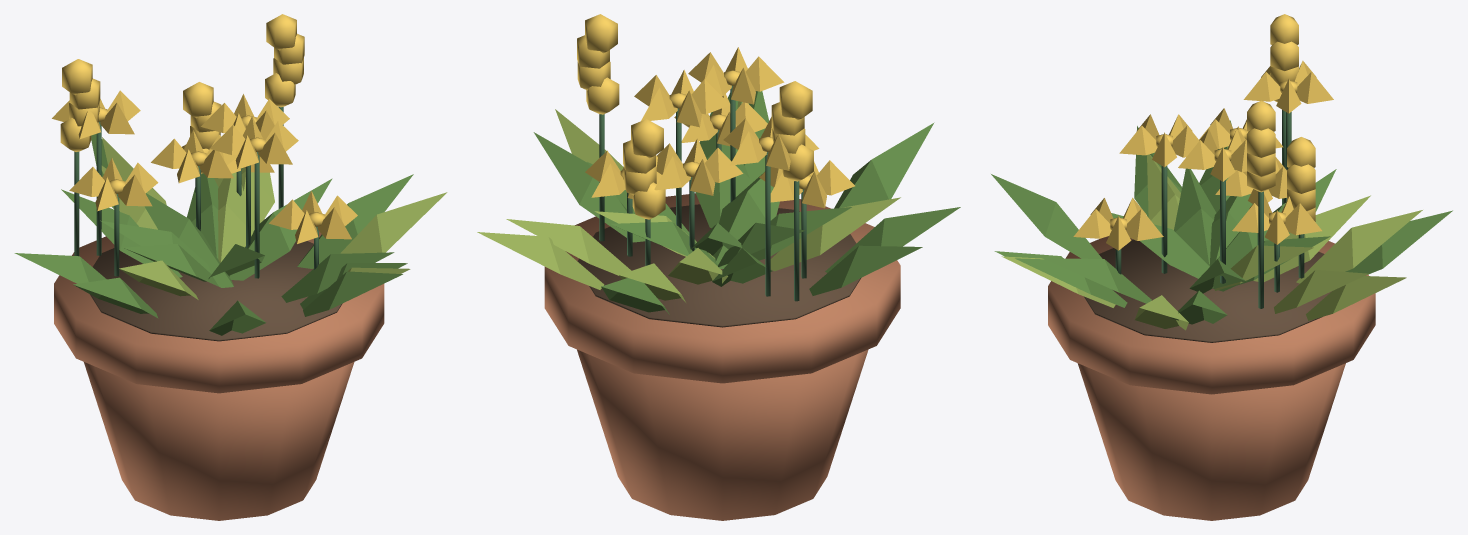
The model's file is flower_pot_1.glb.
The picture shows the model from 3 angles, left to right: view 1: azimuth 30°, elevation 25°; view 2: azimuth 150°, elevation 25°; view 3: azimuth 270°, elevation 25°; orthographic projection. The views are drawn at different scales.
Parts seen in each view (by area): view 1: flower_pot_1; view 2: flower_pot_1; view 3: flower_pot_1.
Part boxes in pixels (x1=…): flower_pot_1: x1=14, y1=14, x2=447, y2=520; flower_pot_1: x1=477, y1=14, x2=960, y2=520; flower_pot_1: x1=991, y1=14, x2=1452, y2=520.
Size of the model in its own units: 0.9217 by 0.9675 by 0.9612.
